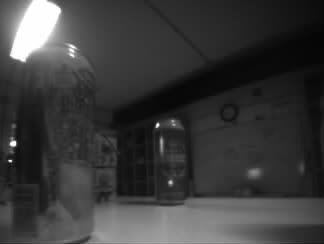Tin can: (12, 45, 94, 242), (153, 118, 188, 204)
